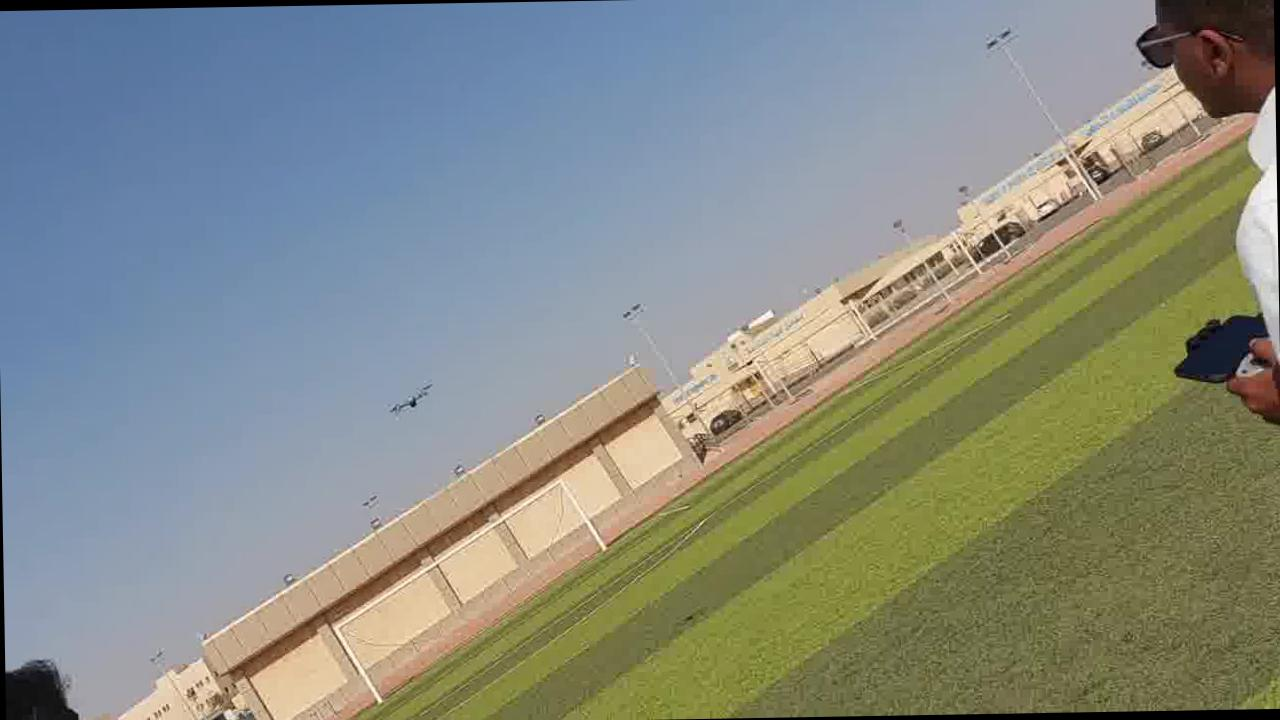drone: (384, 376, 441, 432)
